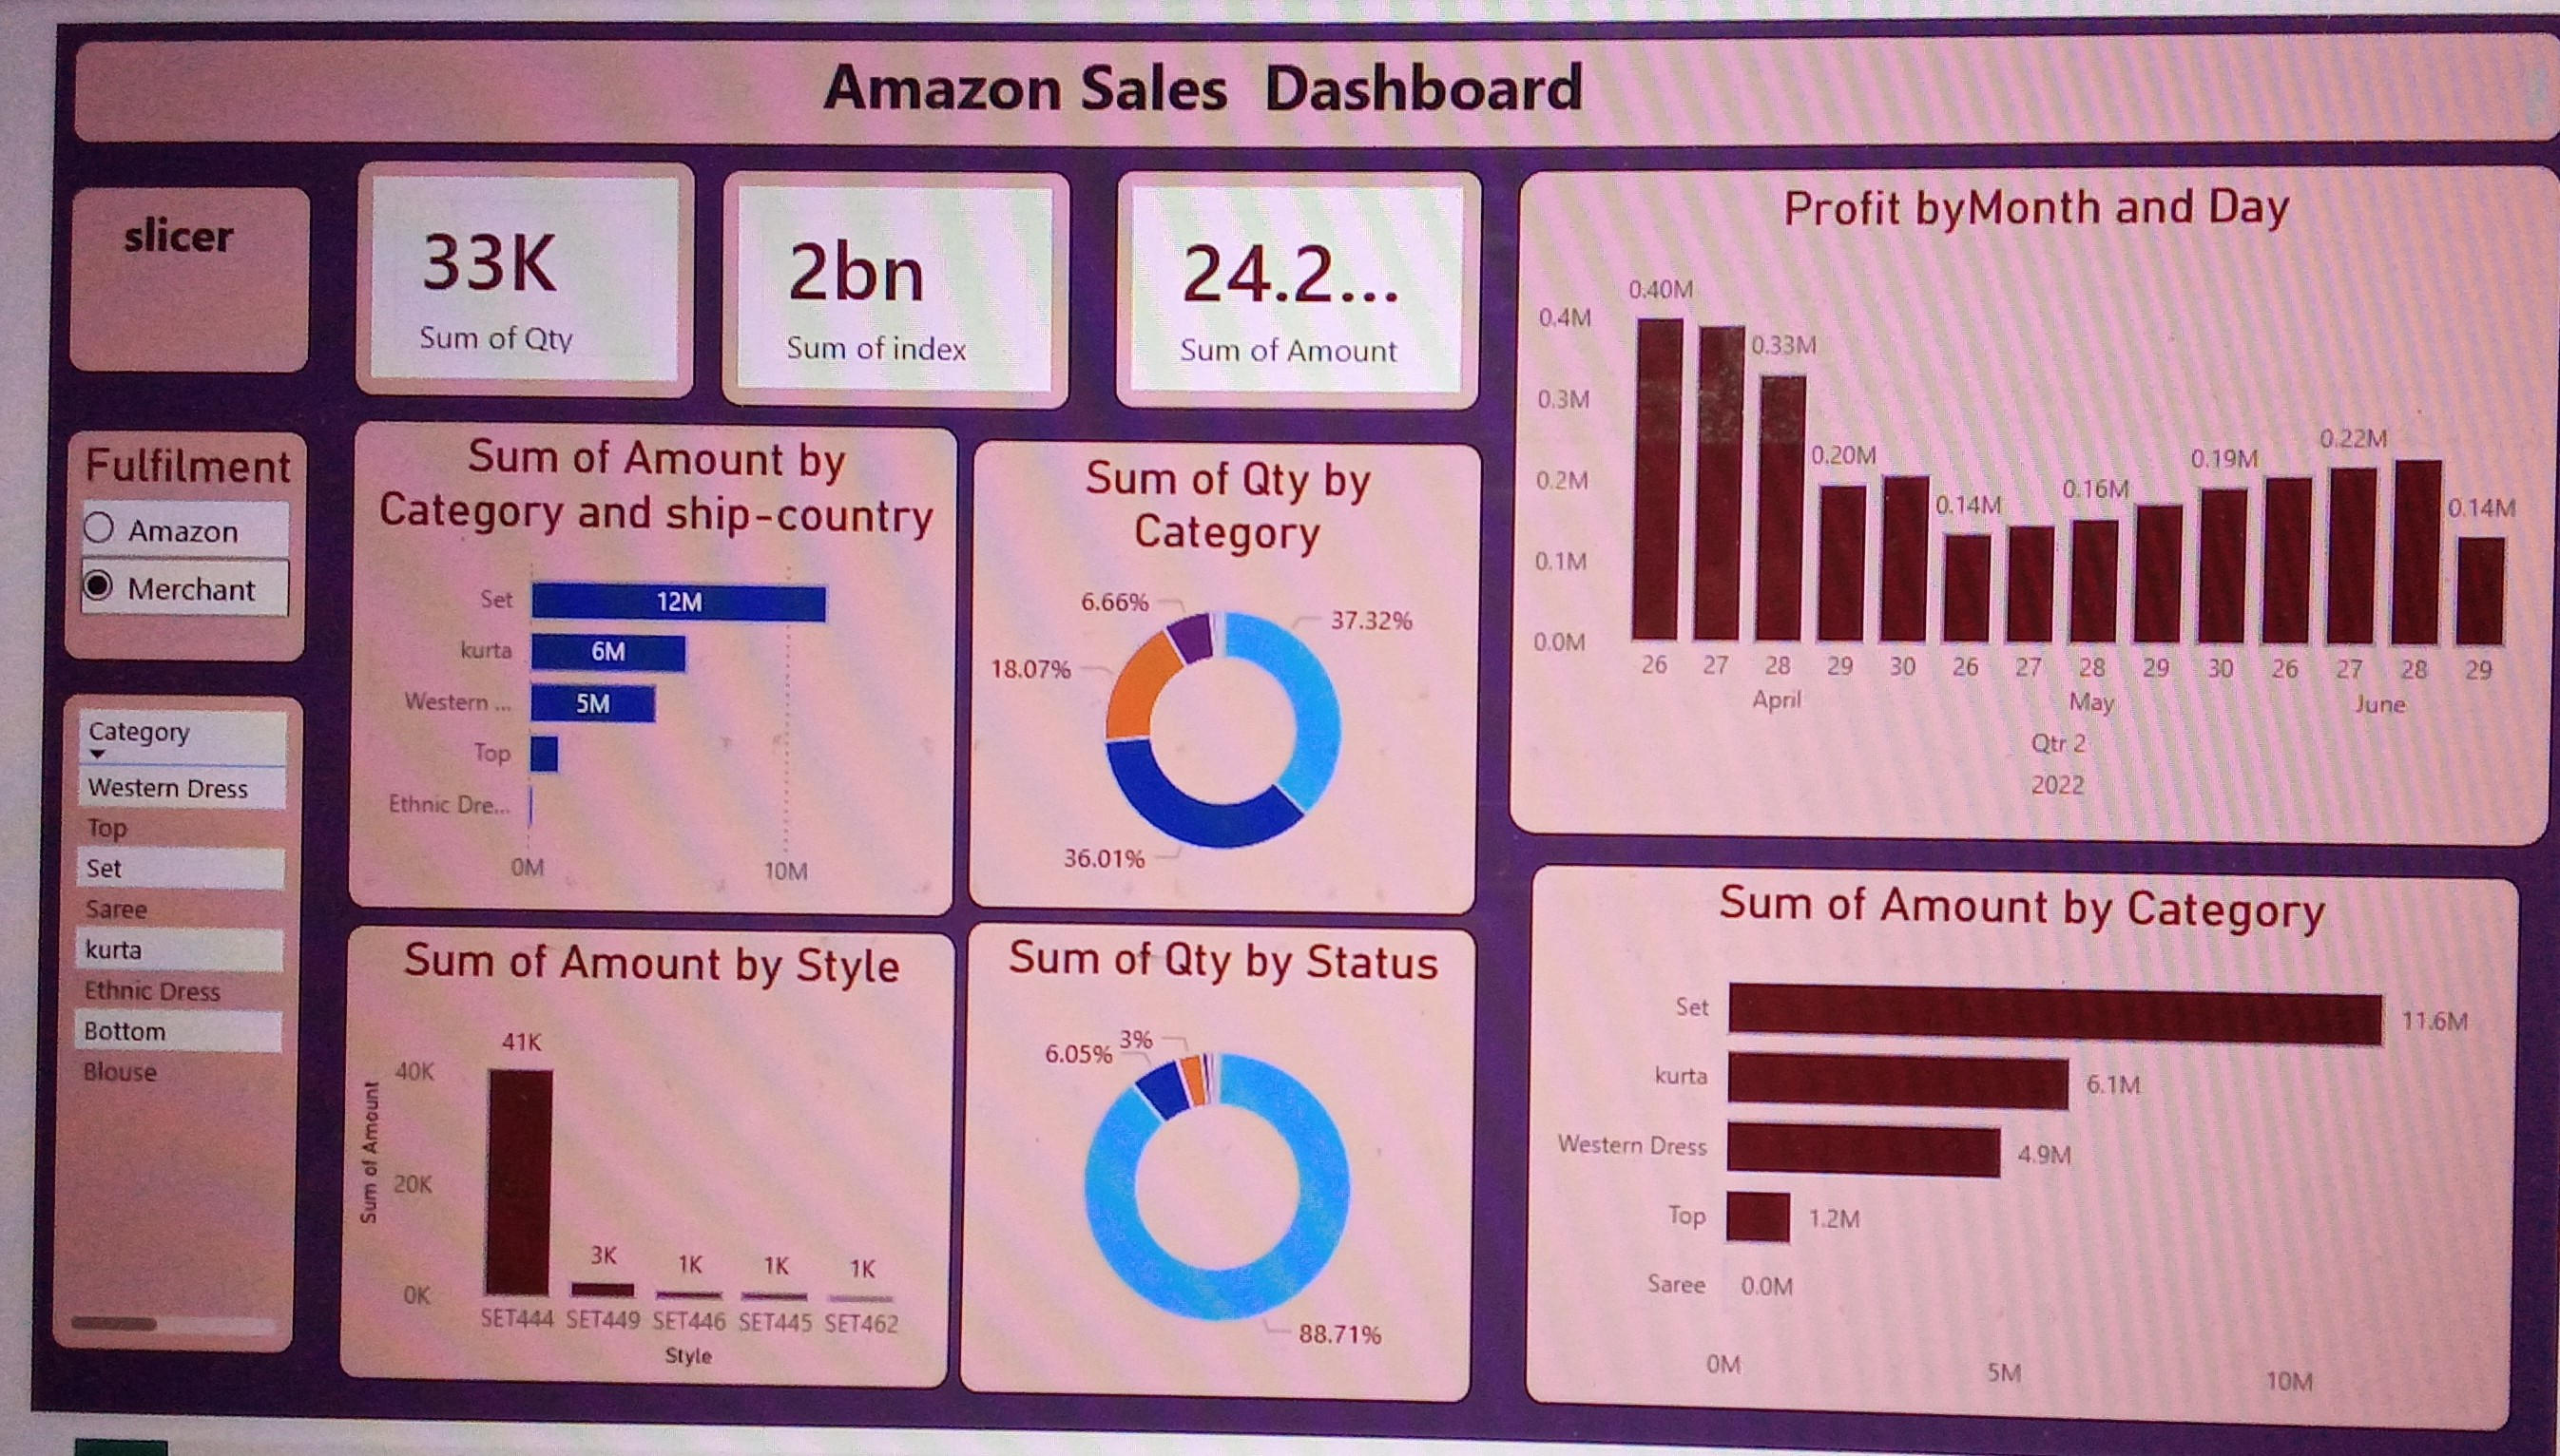

This screenshot's page, from the dashboard's own definition file:
{"tool":"powerbi","page":{"name":"Page 1","canvas":[1280,720],"ordinal":0},"visuals":[{"type":"textbox","box":[9.5,8.2,1259.9,54.4],"z":0},{"type":"barChart","fields":{"Category":["Amazon_Sale_Report[1].Category"],"Y":["Sum(Amazon_Sale_Report[1].Amount)"]},"box":[770.9,424.5,486.5,274.9],"z":1000},{"type":"donutChart","fields":{"Category":["Amazon_Sale_Report[1].Category"],"Y":["Sum(Amazon_Sale_Report[1].Qty)"]},"box":[481.7,211.8,261.6,240.8],"z":2000},{"type":"clusteredColumnChart","title":"Profit byMonth and Day","fields":{"Y":["Sum(Amazon_Sale_Report[1].Amount)"],"Category":["Amazon_Sale_Report[1].Date.Variation.Date Hierarchy.Year","Amazon_Sale_Report[1].Date.Variation.Date Hierarchy.Quarter","Amazon_Sale_Report[1].Date.Variation.Date Hierarchy.Month","Amazon_Sale_Report[1].Date.Variation.Date Hierarchy.Day"]},"box":[758.5,73.4,512.1,336.3],"z":3000},{"type":"donutChart","fields":{"Category":["Amazon_Sale_Report[1].Status"],"Y":["Sum(Amazon_Sale_Report[1].Qty)"]},"box":[481.1,458.2,262.8,242.6],"z":4000},{"type":"cardVisual","fields":{"Data":["Sum(Amazon_Sale_Report[1].Qty)"]},"box":[161.7,71.4,176.5,121.3],"z":5000},{"type":"cardVisual","fields":{"Data":["Sum(Amazon_Sale_Report[1].Amount)"]},"box":[553.6,73.4,186.9,120.4],"z":6000},{"type":"cardVisual","fields":{"Data":["Sum(Amazon_Sale_Report[1].index)"]},"box":[351.6,74.7,179.9,120.4],"z":7000},{"type":"barChart","fields":{"Category":["Amazon_Sale_Report[1].Category"],"Y":["Sum(Amazon_Sale_Report[1].Amount)"],"Series":["Amazon_Sale_Report[1].ship-country"]},"box":[161.7,204.8,312.7,252],"z":8000},{"type":"columnChart","fields":{"Category":["Amazon_Sale_Report[1].Style"],"Y":["Sum(Amazon_Sale_Report[1].Amount)"]},"box":[161.7,464.9,314,234.5],"z":9000},{"type":"tableEx","fields":{"Values":["Amazon_Sale_Report[1].Category"]},"box":[9.5,347.9,127.8,339.8],"z":10000},{"type":"listSlicer","fields":{"Values":["Amazon_Sale_Report[1].Fulfilment"]},"box":[9.4,211.6,128,119.9],"z":11000},{"type":"textbox","box":[9.5,85.6,127.8,96.5],"z":12000}]}

Visuals, with their boxes in screenshot pixels (x1, y1, x2, y2), scaled from the page's 1280x720 canvas onto the 2560x1456 screenshot:
textbox: <region>19, 16, 2539, 126</region>
barChart - Amazon_Sale_Report[1].Category x Sum(Amazon_Sale_Report[1].Amount): <region>1542, 858, 2514, 1414</region>
donutChart - Amazon_Sale_Report[1].Category x Sum(Amazon_Sale_Report[1].Qty): <region>963, 429, 1487, 915</region>
"Profit byMonth and Day" clusteredColumnChart: <region>1517, 148, 2541, 829</region>
donutChart - Amazon_Sale_Report[1].Status x Sum(Amazon_Sale_Report[1].Qty): <region>962, 927, 1488, 1417</region>
cardVisual - Sum(Amazon_Sale_Report[1].Qty): <region>323, 144, 677, 390</region>
cardVisual - Sum(Amazon_Sale_Report[1].Amount): <region>1107, 148, 1481, 392</region>
cardVisual - Sum(Amazon_Sale_Report[1].index): <region>703, 151, 1063, 394</region>
barChart - Amazon_Sale_Report[1].Category x Sum(Amazon_Sale_Report[1].Amount): <region>323, 414, 949, 924</region>
columnChart - Amazon_Sale_Report[1].Style x Sum(Amazon_Sale_Report[1].Amount): <region>323, 940, 952, 1414</region>
tableEx - Amazon_Sale_Report[1].Category: <region>19, 703, 275, 1390</region>
listSlicer - Amazon_Sale_Report[1].Fulfilment: <region>19, 428, 275, 670</region>
textbox: <region>19, 173, 275, 368</region>
